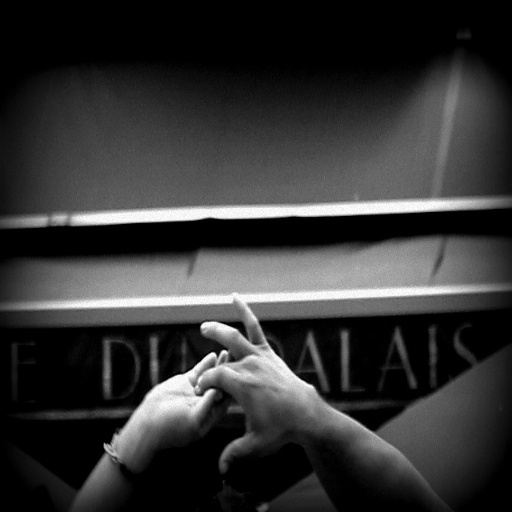hand: (193, 292, 314, 473), (138, 346, 228, 454)
